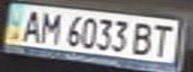0: (78, 15, 100, 49)
3: (112, 17, 133, 54), (96, 16, 115, 52)
6: (63, 12, 84, 47)
A: (15, 7, 45, 43)
B: (130, 19, 160, 56)
M: (36, 10, 63, 45)
T: (148, 21, 178, 57)
